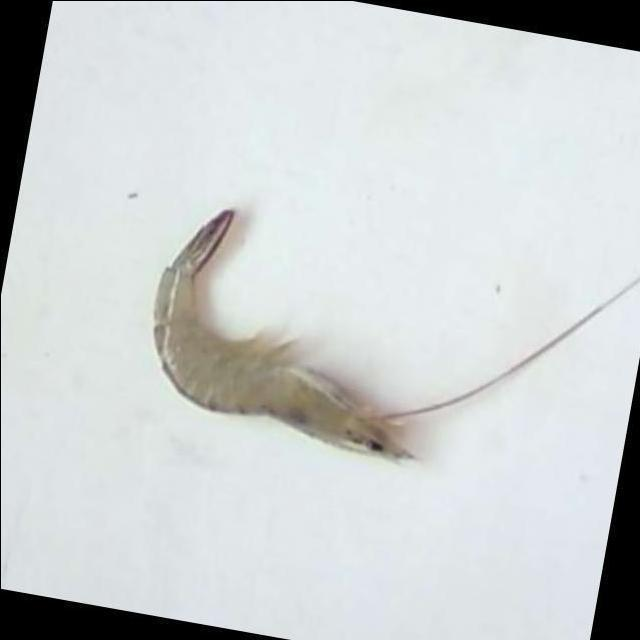shrimp: (153, 210, 411, 461)
